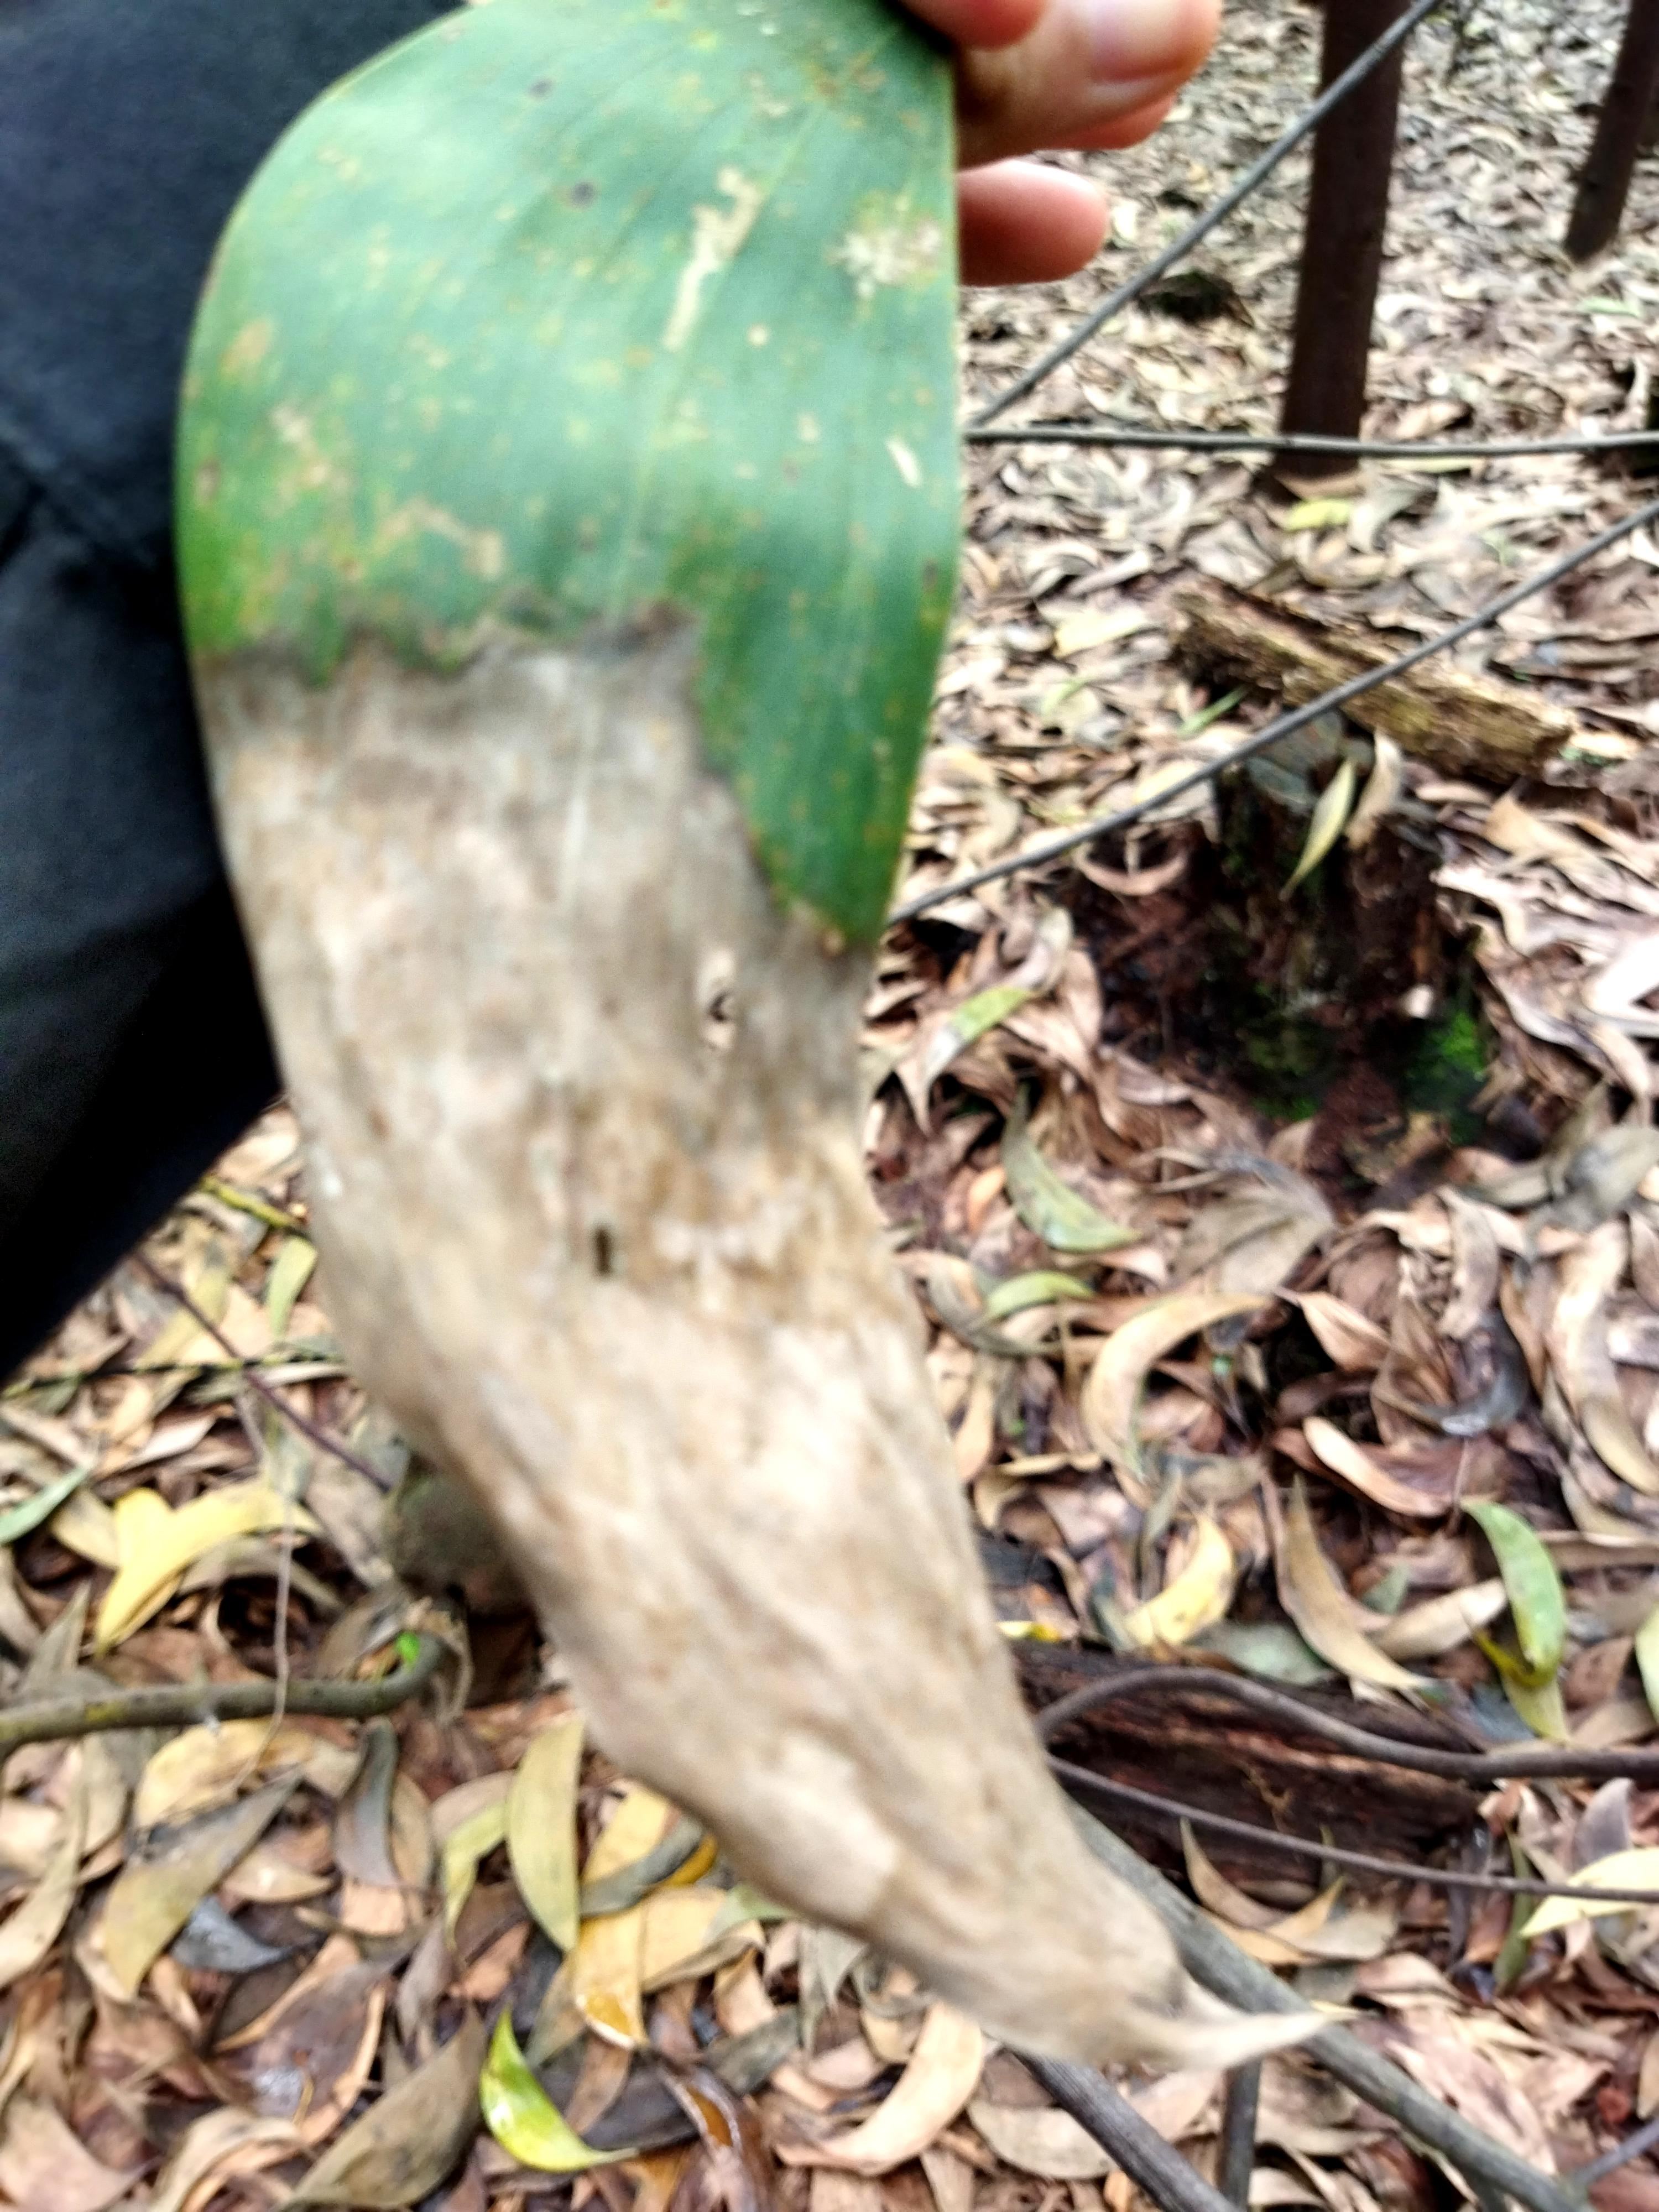Cylindrocladium: (206, 632, 1227, 2094)
